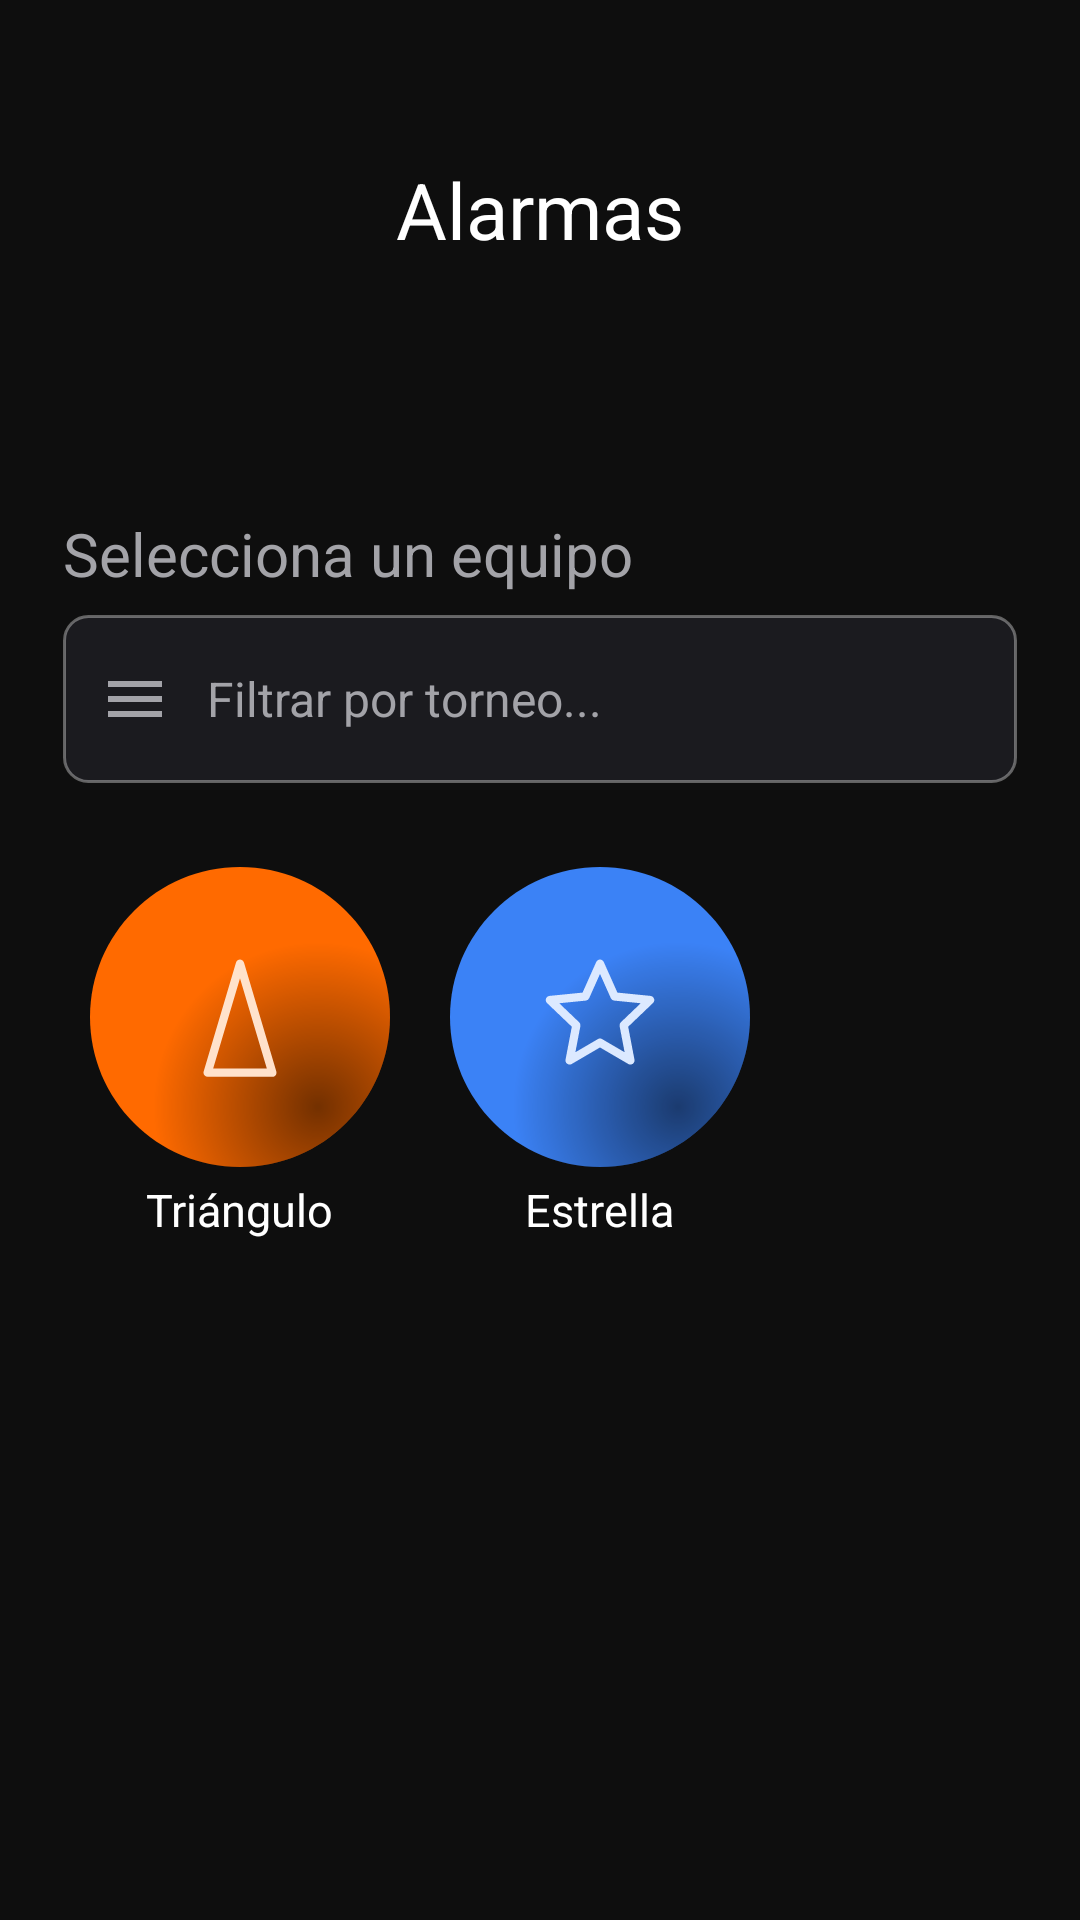

Point at icon controls on the screen. Image size 1080x1920, points as [x,y].
menu: [135,699]
